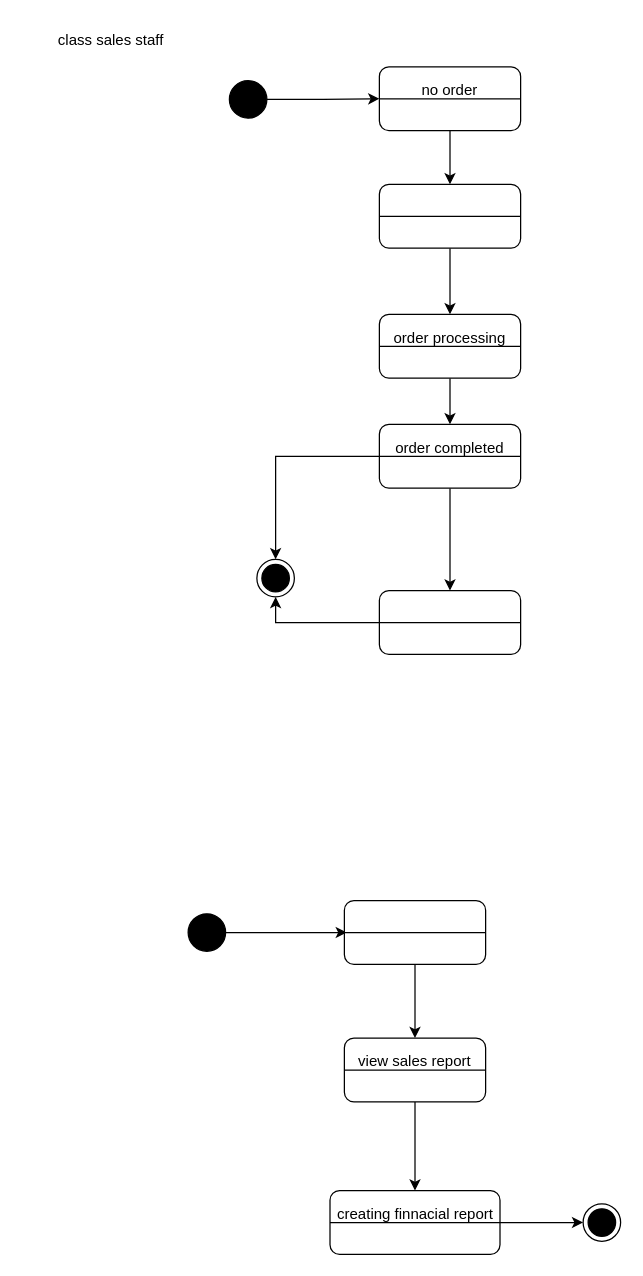
Some shapes in this 643 by 1276 pixel diagram are drawn without their labels. The centre of each missing label's shape, as x and y in pixels:
cancel order: (449,621)
create order: (449,215)
viewing inventory: (414,931)
